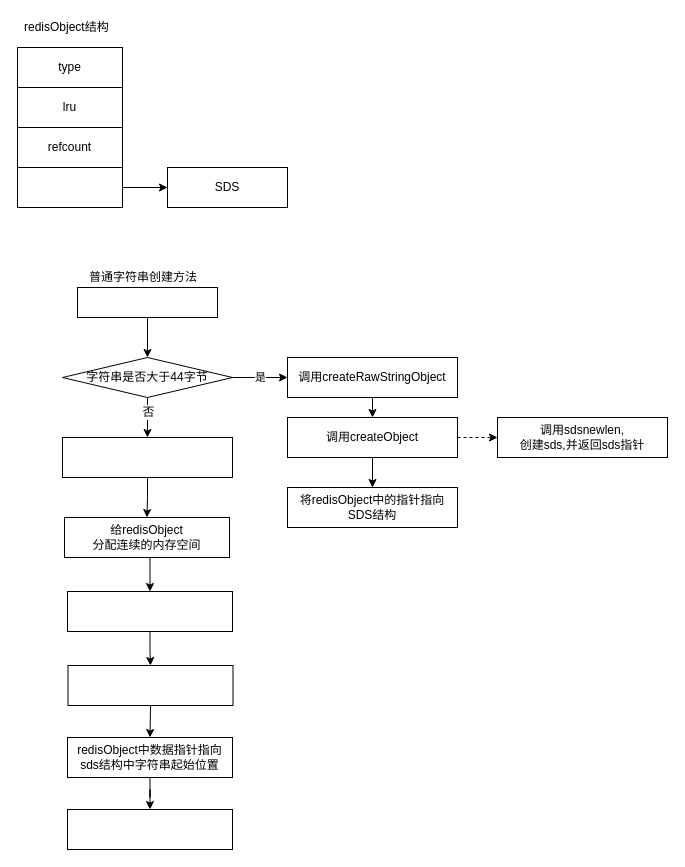
The diagram is 685 pixels wide and 867 high, and some of its shapes have lost their labels. Each missing label, with the box of its shape:
ptr: (16, 166, 122, 208)
SDS结构指针指向内存空间中sds结构头的位置: (67, 664, 233, 706)
创建sds结构指针: (66, 590, 232, 632)
将传入的字符串拷贝至sds中字符数组，并添加结束字符\0: (66, 808, 232, 850)
调用createEmbeddedStringObject: (62, 436, 232, 478)
调用createStringObject: (76, 286, 218, 318)
